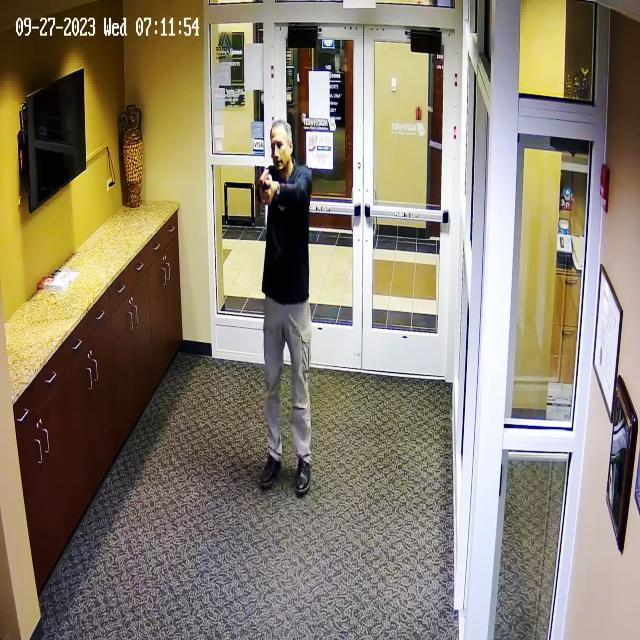Gun: (250, 162, 278, 201)
